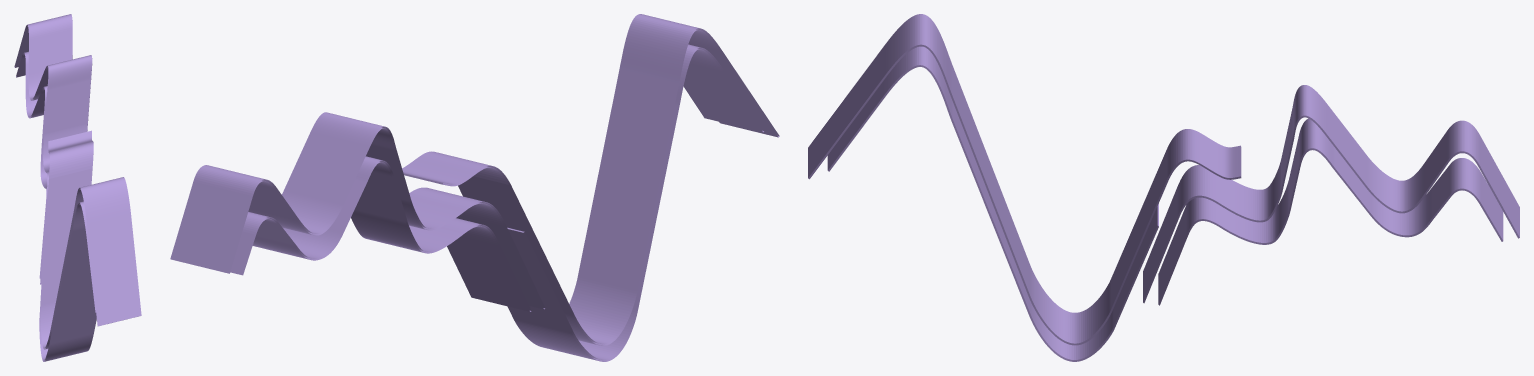
The model's file is curves.glb.
The picture shows the model from 3 angles, left to right: view 1: azimuth 30°, elevation 25°; view 2: azimuth 150°, elevation 25°; view 3: azimuth 270°, elevation 25°; orthographic projection. The views are drawn at different scales.
Parts seen in each view (by area): view 1: New curve.001; view 2: New curve.001; view 3: New curve.001.
Part boxes in pixels (<box>): New curve.001: <box>14,14,141,361</box>; New curve.001: <box>170,14,779,361</box>; New curve.001: <box>808,14,1519,361</box>.
Bounding box in the file's own units: 0.0711 × 0.0699 × 0.1467.
